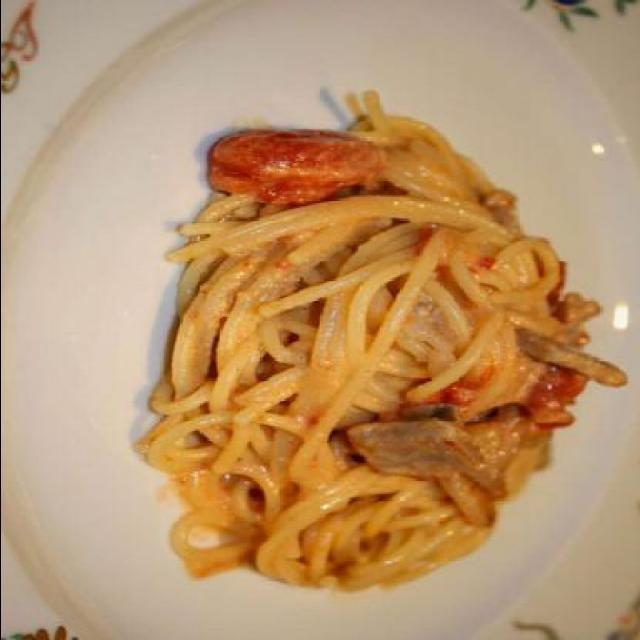Pasta with carbonara sauce: (120, 130, 614, 634)
